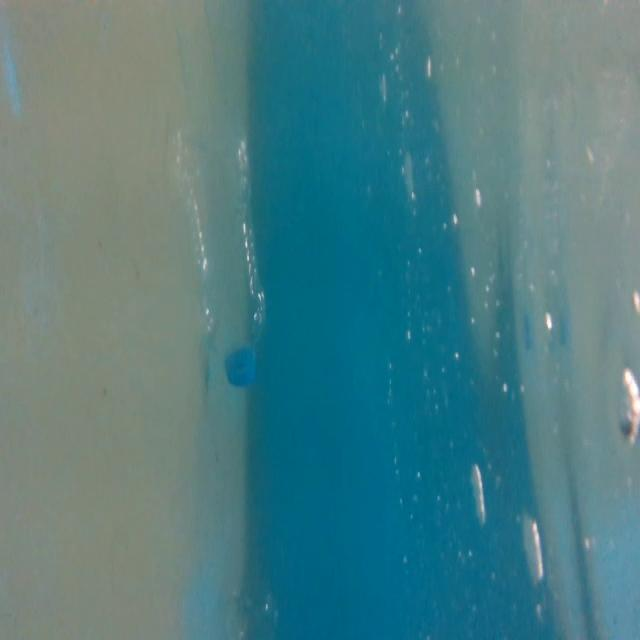plastic bottle: (162, 101, 285, 392)
